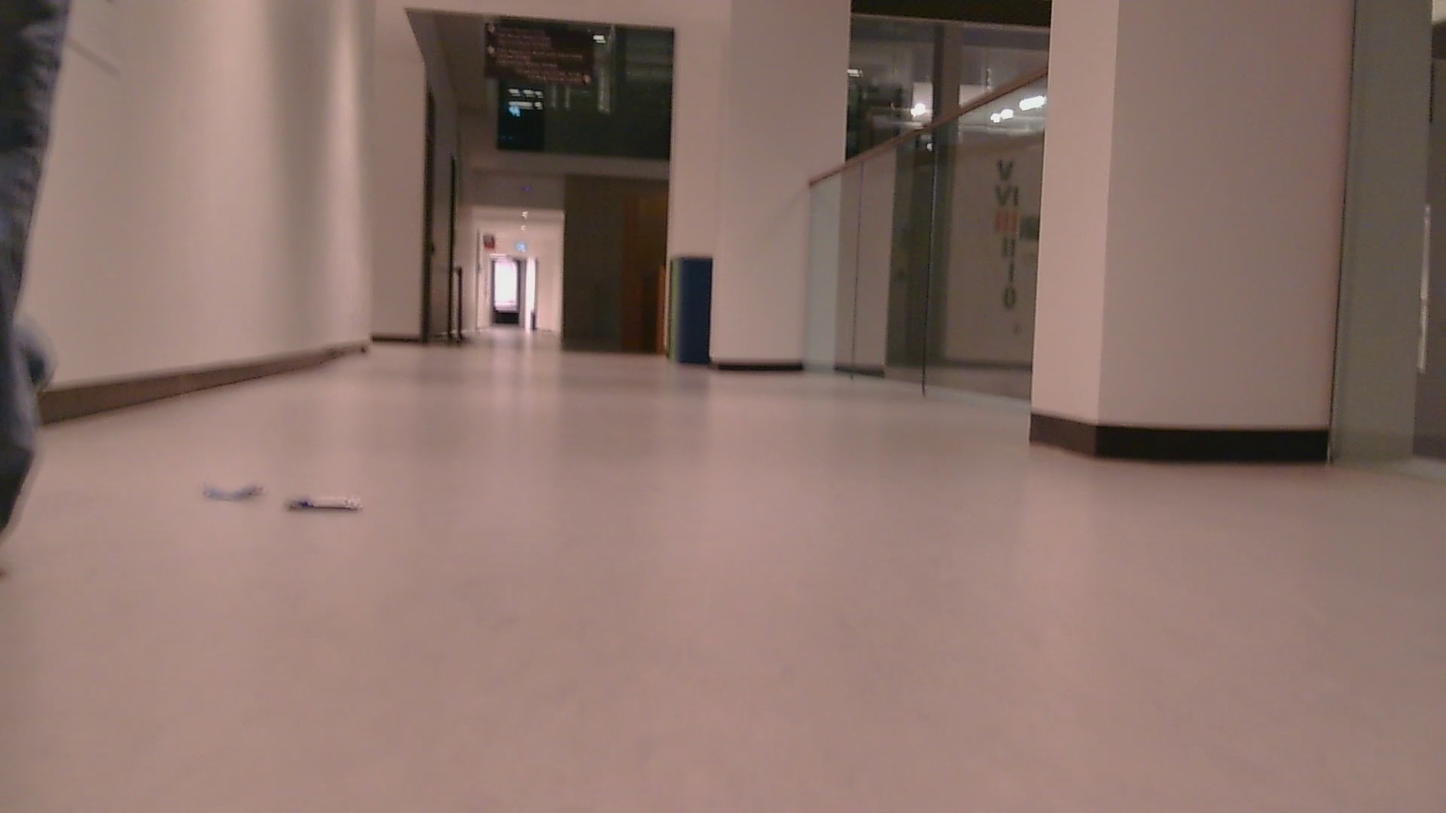carton: (288, 482, 372, 523), (191, 467, 274, 507)
